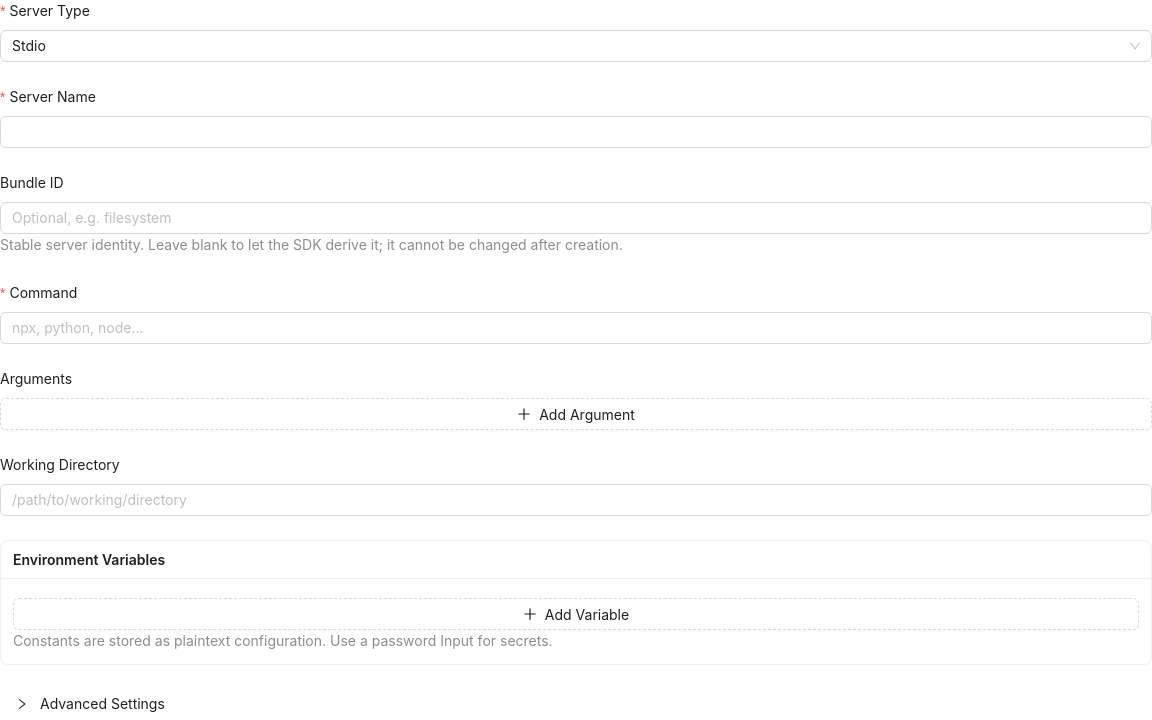
Test case: McpServerForm technical fields and config value sources › submitting the secondary form only updates the outer draft
Click the button "Add Variable".
click(576, 614)  # box [13,598,1139,630]
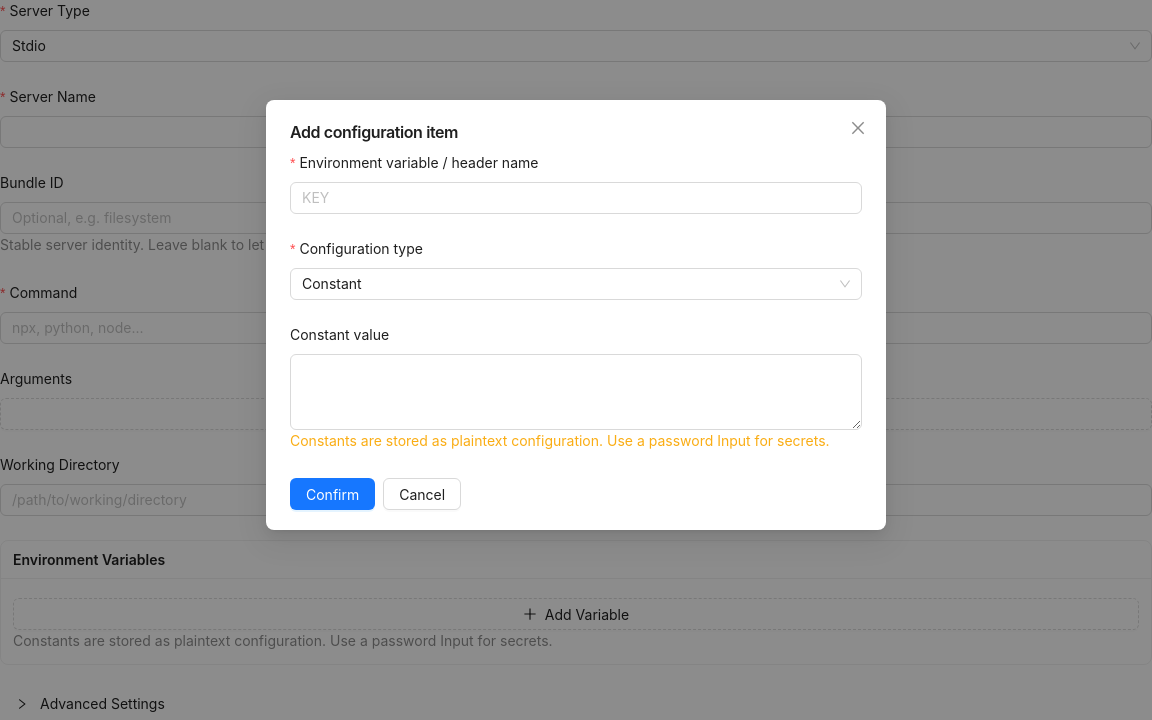
Type "LOG_LEVEL" into the field labelled "Environment variable / header name".
click(576, 198); type("LOG_LEVEL")  # box [290,182,862,214]
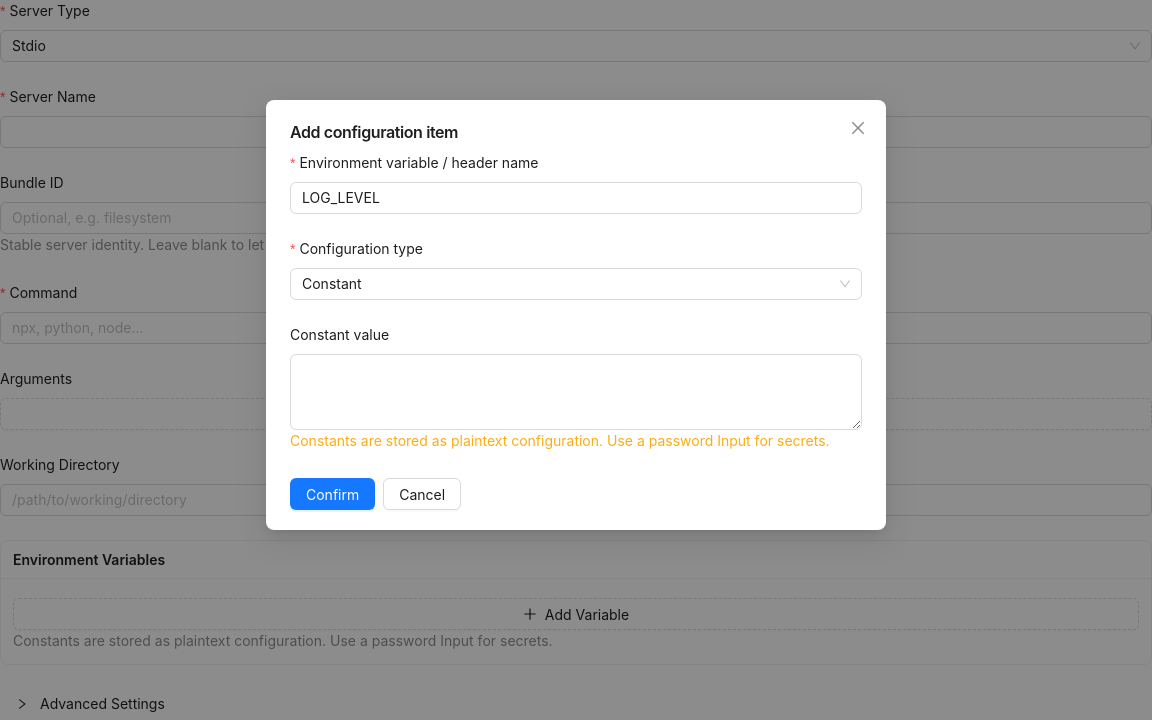
Type "debug" into the text box labelled "Constant value".
click(576, 392); type("debug")  # box [290,354,862,430]
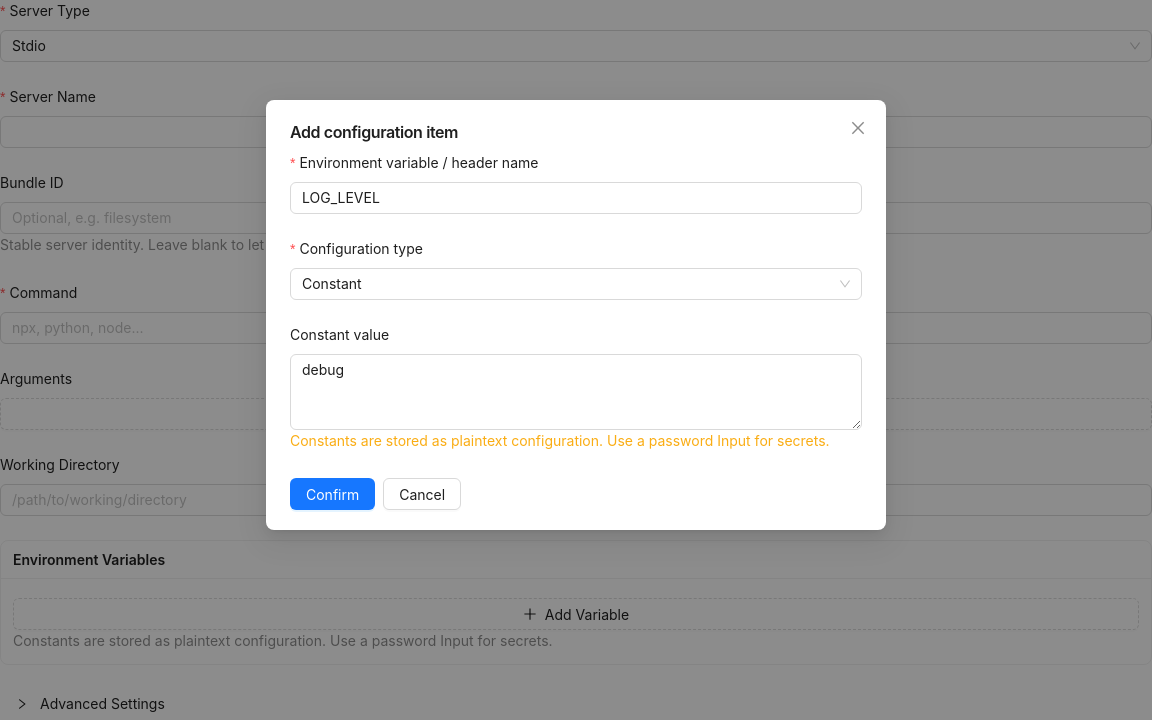
Submit the form "Environment variable / header name", box [290,152,862,510]
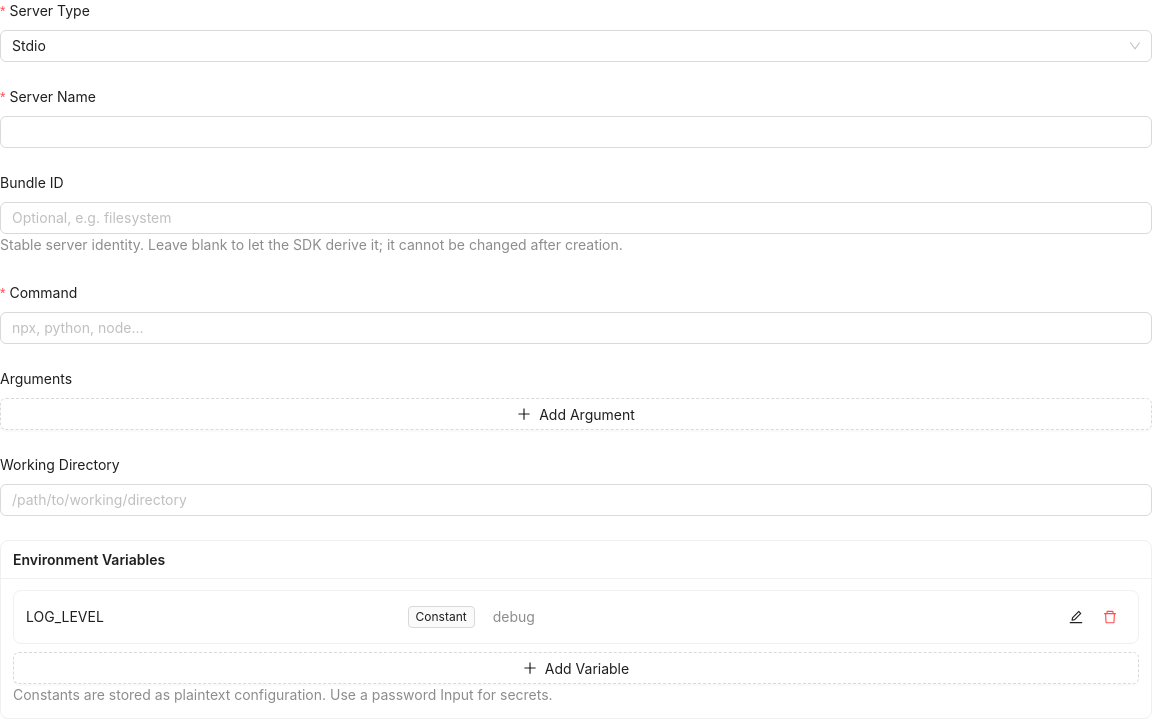
Check: the text "LOG_LEVEL" is shown, box [26,608,104,625]
